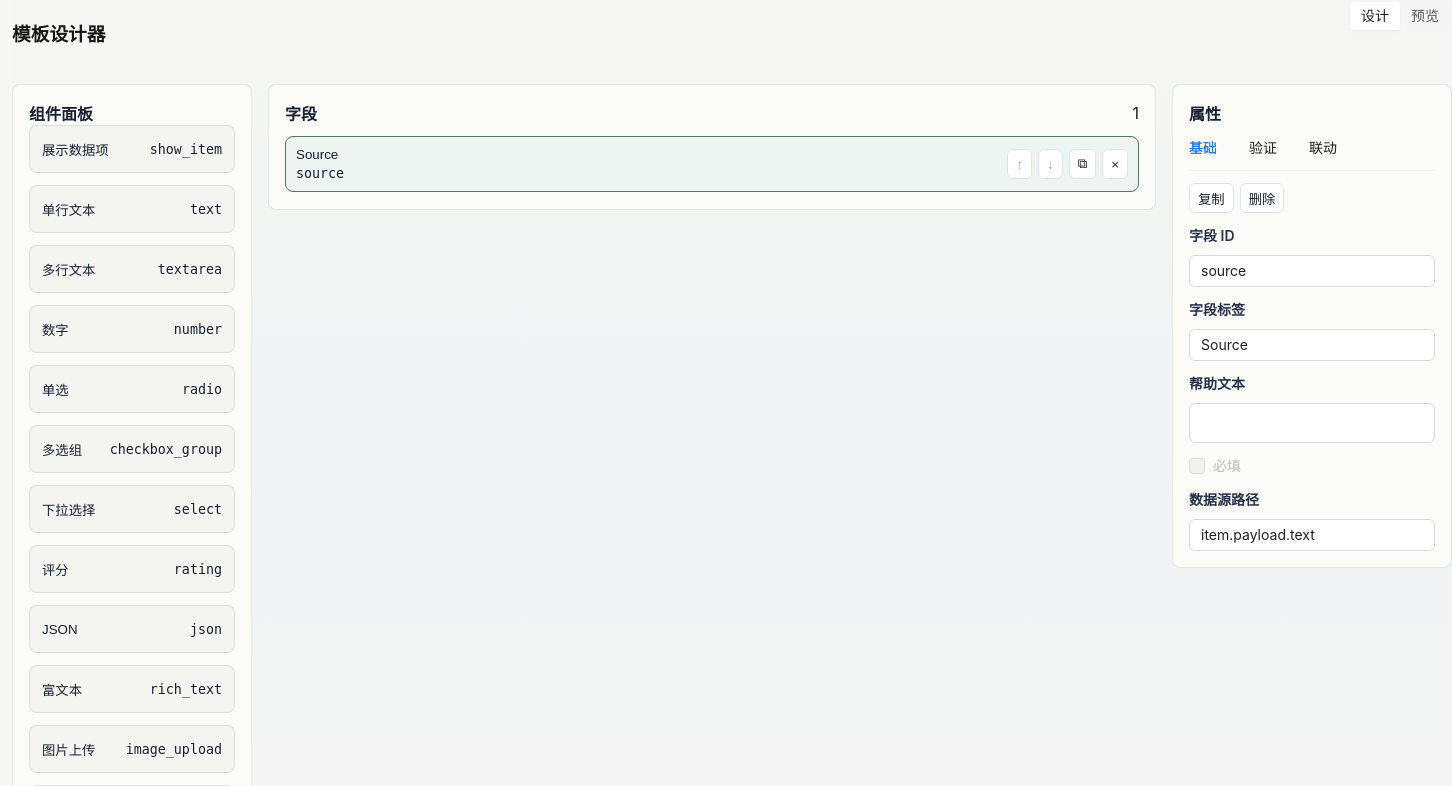
Test: TemplateDesigner › renders preview mode with the current schema
Click the text "预览" at {"x": 1425, "y": 16}, box [1411, 7, 1439, 24]
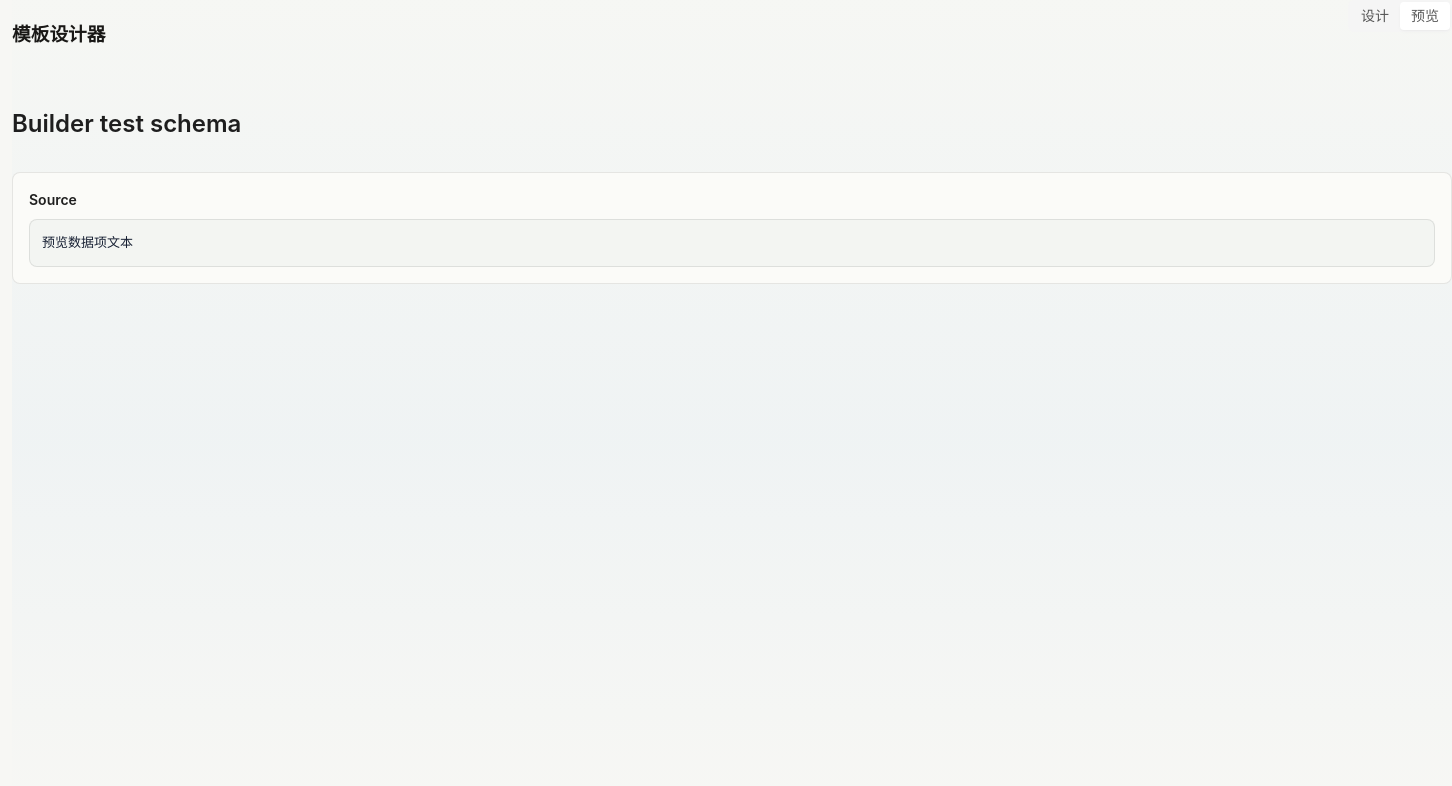
Result: the text "预览数据项文本" is shown at [29, 219, 1435, 267]
